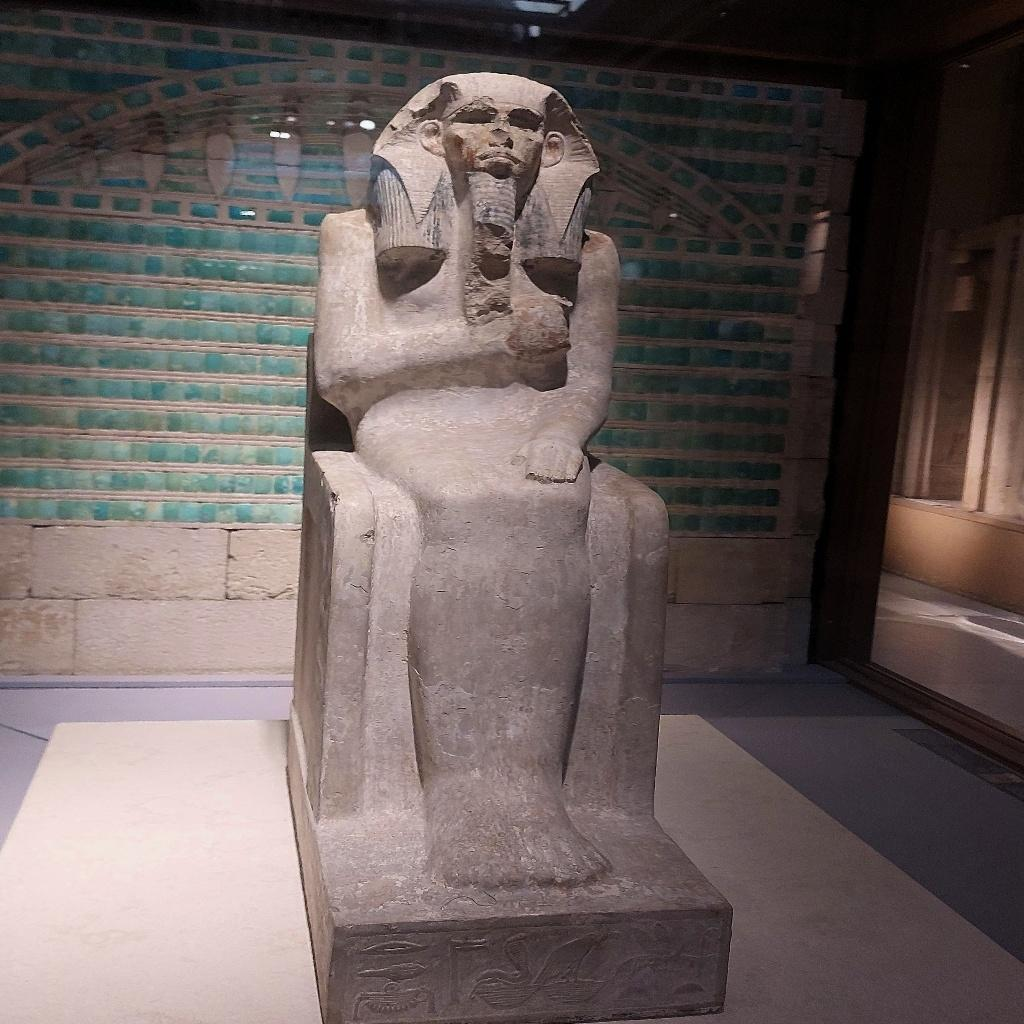Seated Statue of Djoser: (280, 66, 738, 1018)
